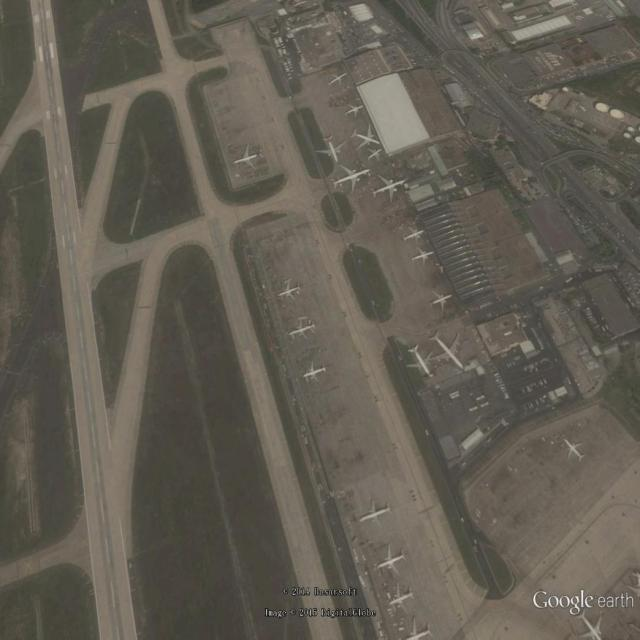aircraft: (427, 331, 470, 373), (328, 161, 375, 198), (370, 170, 409, 206), (356, 496, 396, 531), (375, 542, 410, 579), (571, 604, 606, 640), (315, 135, 351, 168), (403, 344, 436, 380), (350, 121, 384, 154), (388, 581, 418, 618), (232, 141, 267, 172), (427, 290, 457, 319), (301, 358, 331, 386), (288, 316, 319, 343), (403, 617, 439, 640), (408, 245, 437, 273), (277, 277, 304, 303), (563, 437, 588, 465), (400, 226, 427, 251), (343, 102, 366, 123), (363, 147, 386, 165), (326, 73, 350, 90), (432, 261, 449, 277)
